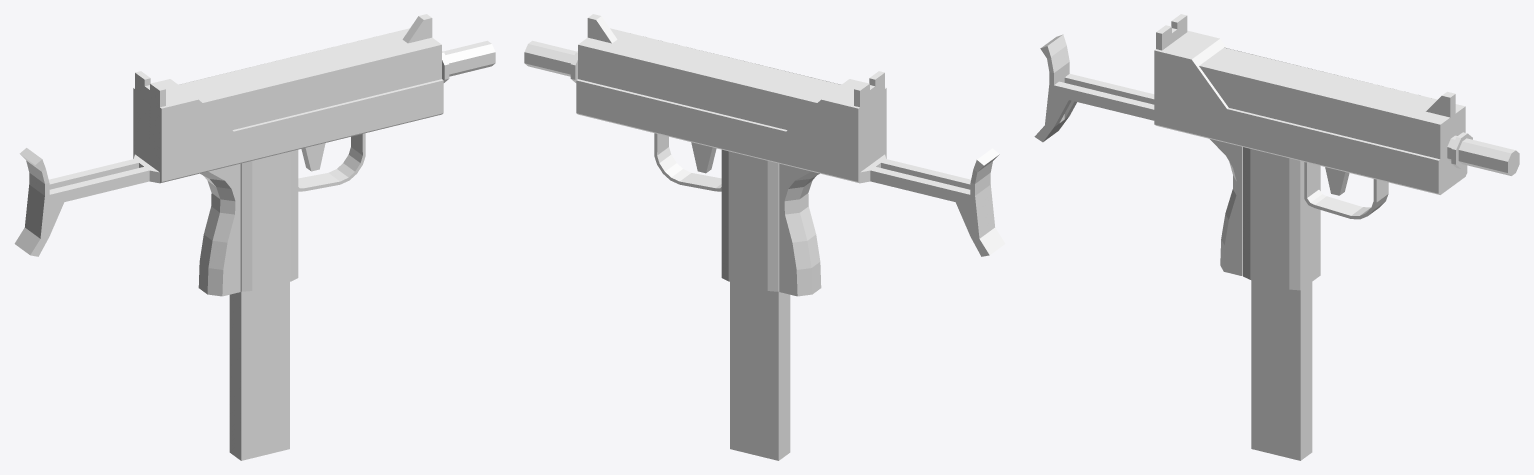
File: uzi.fbx
The picture shows the model from 3 angles, left to right: view 1: azimuth 30°, elevation 25°; view 2: azimuth 150°, elevation 25°; view 3: azimuth 330°, elevation 25°; orthographic projection.
Visible parts, largest first — view 1: Cube; view 2: Cube; view 3: Cube.
Boxes of the visible parts, <box> form: Cube: <box>14,14,495,460</box>; Cube: <box>524,14,1005,460</box>; Cube: <box>1034,14,1519,460</box>.
Size of the model in its own units: 631 by 511 by 66.34.
